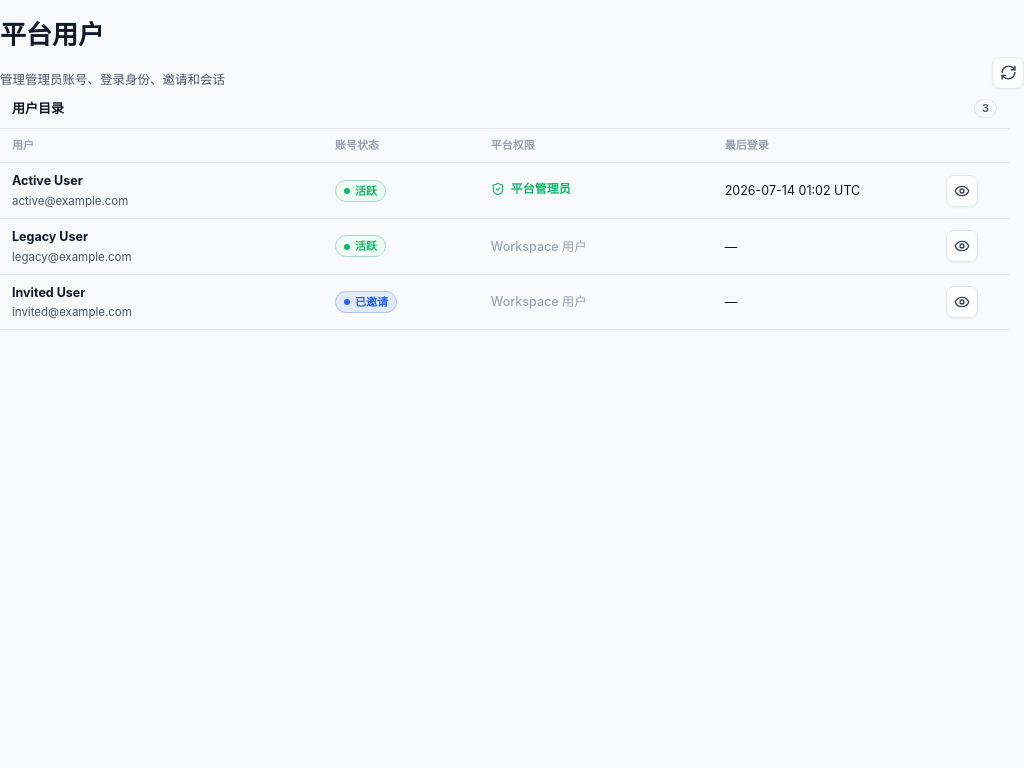
Test case: AdminUsersPage › keeps an invited retry provider diagnostic but disables migration when the provider is not public and enabled
Click the button named "查看 Legacy User": (962, 246) [946, 230, 978, 262]
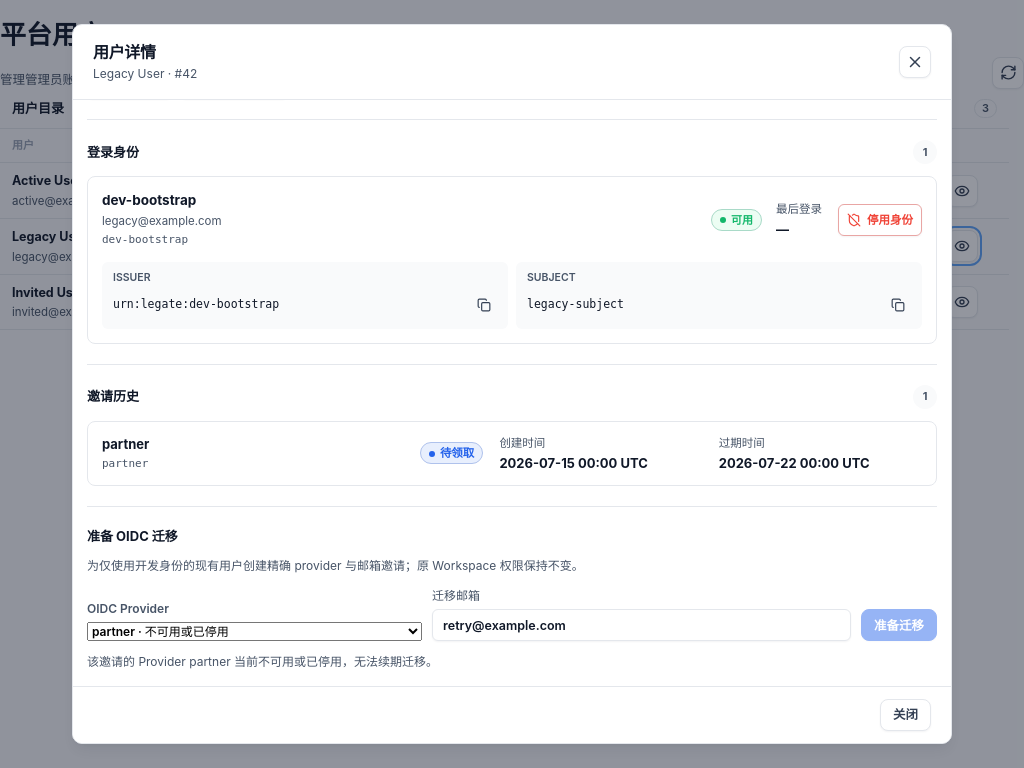
Now the dropdown named "OIDC Provider" shows "partner · 不可用或已停用", box [87, 622, 422, 641]
Now the text "该邀请的 Provider partner 当前不可用或已停用，无法续期迁移。" is shown, box [87, 654, 438, 669]
Now the button "准备迁移" is disabled, box [861, 609, 937, 641]
